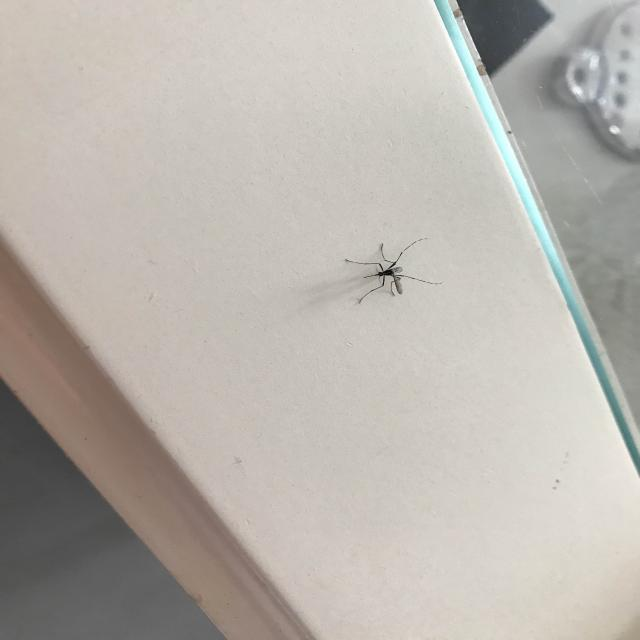albopictus: (342, 233, 444, 305)
